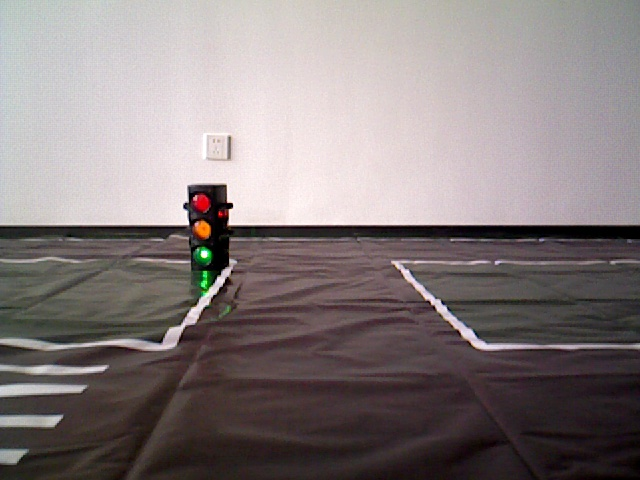green: (185, 190, 226, 262)
